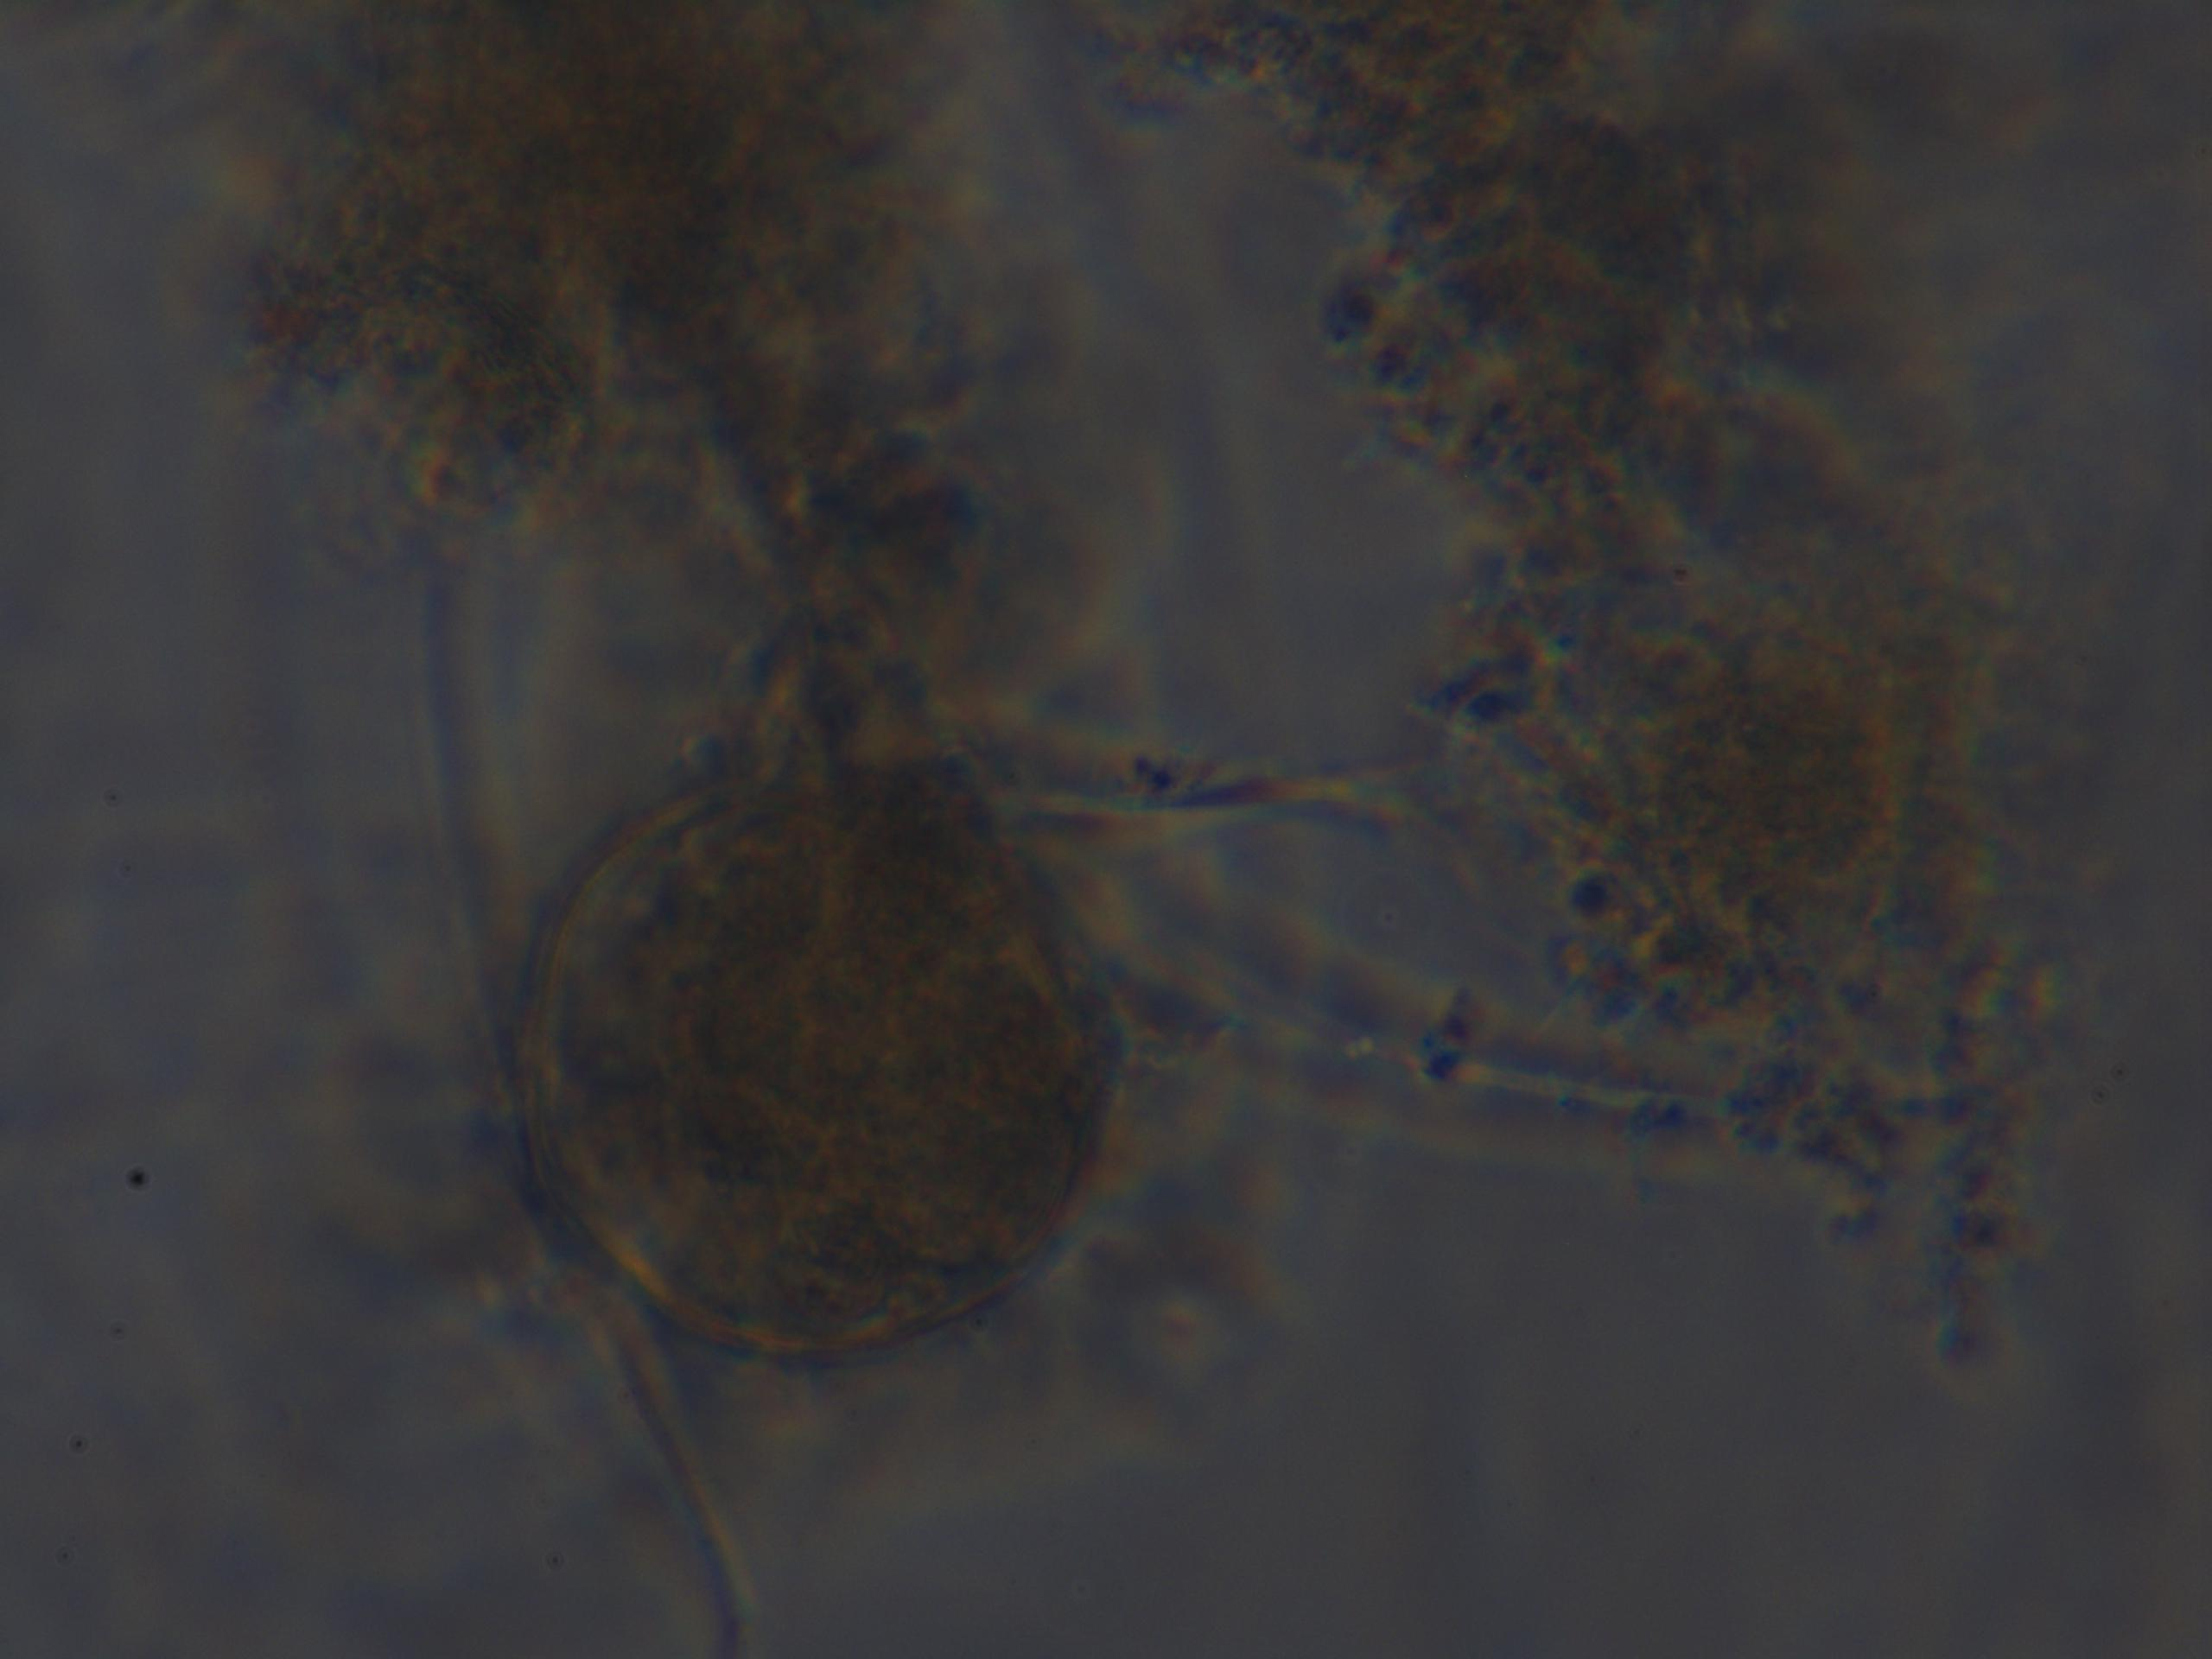filament: (409, 530, 765, 1659), (1116, 924, 1721, 1140), (1028, 737, 1409, 835)
protozoa: (521, 744, 1115, 1373)
